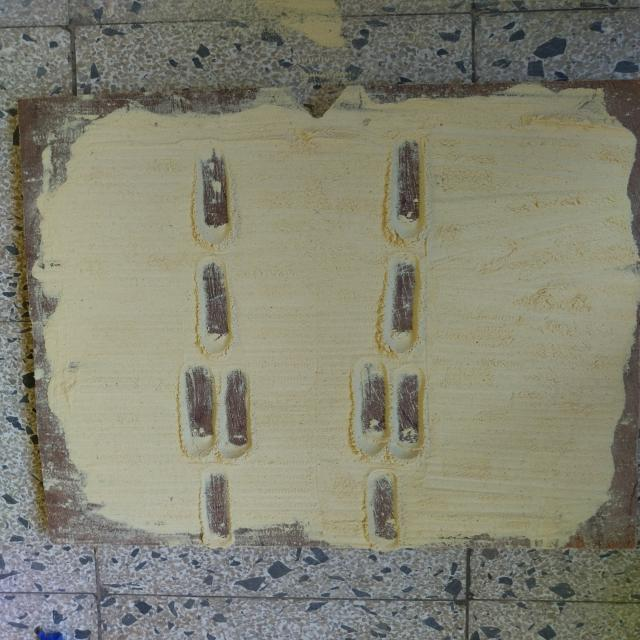double: (342, 352, 433, 464), (172, 358, 258, 464)
single: (380, 125, 436, 248), (186, 139, 244, 254), (372, 248, 428, 360), (192, 254, 238, 360), (360, 464, 408, 554), (196, 460, 242, 550)
